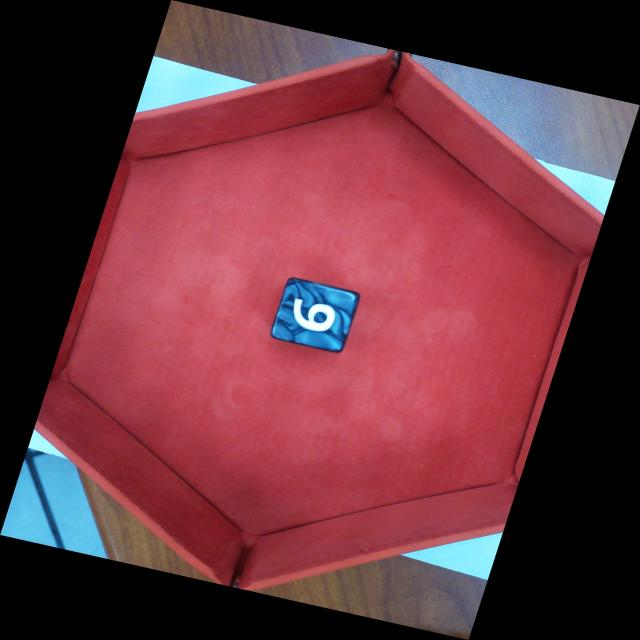dice: (265, 276, 364, 356)
